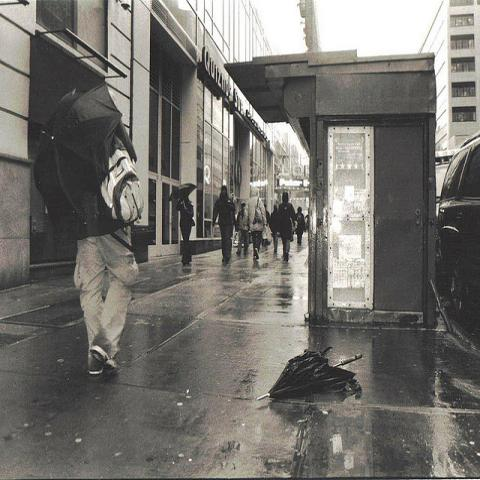car: (434, 129, 480, 358)
